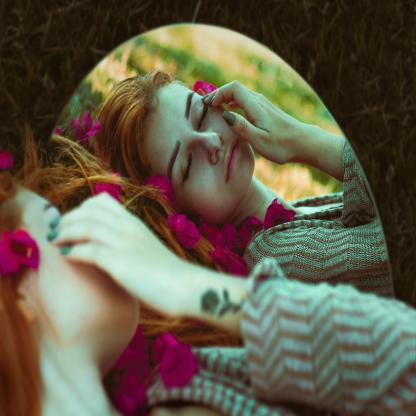Eye: (181, 151, 193, 186), (195, 101, 209, 131)
Mouth: (224, 137, 240, 184)
Nose: (192, 131, 223, 164)
